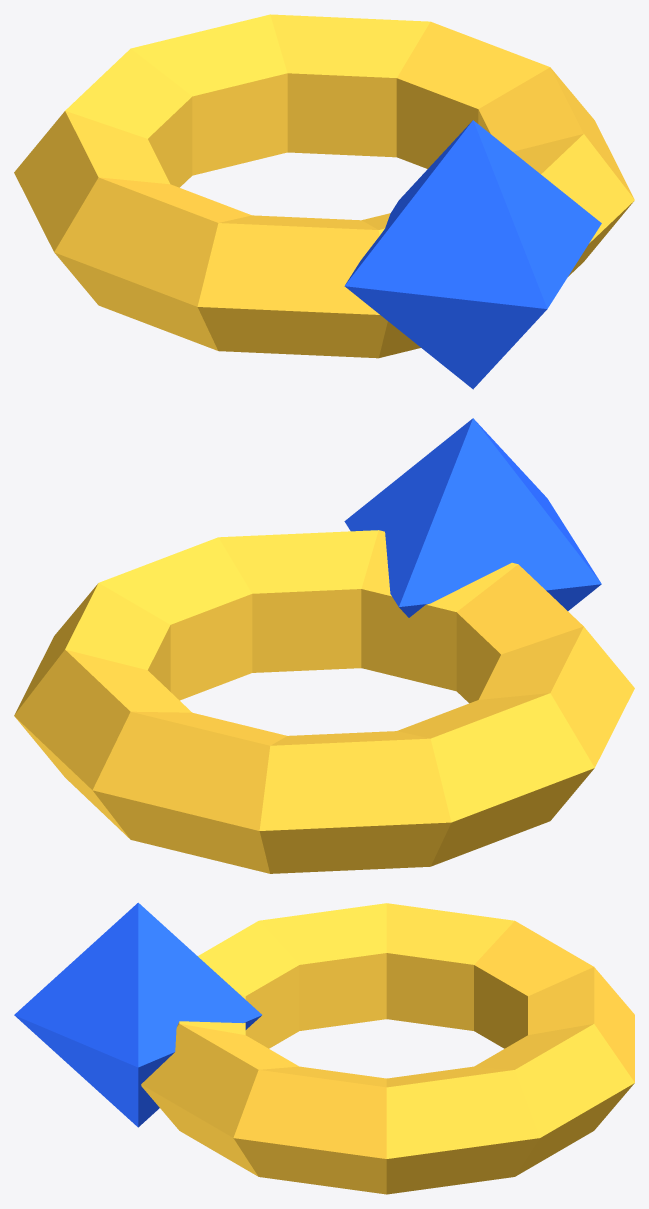
File: stolen_ring.glb
The picture shows the model from 3 angles, top to bottom: view 1: azimuth 30°, elevation 25°; view 2: azimuth 150°, elevation 25°; view 3: azimuth 270°, elevation 25°; orthographic projection. The views are drawn at different scales.
Visible parts, largest first — view 1: ring_gold, ring_sapphire; view 2: ring_gold, ring_sapphire; view 3: ring_gold, ring_sapphire.
Part boxes in pixels (box(x1,y1,x2,y2)): ring_gold: box(14, 14, 634, 358); ring_sapphire: box(344, 120, 601, 389); ring_gold: box(14, 530, 634, 873); ring_sapphire: box(344, 418, 601, 617); ring_gold: box(141, 903, 634, 1194); ring_sapphire: box(14, 902, 261, 1127).
Bounding box in the file's own units: 0.042 × 0.02 × 0.05.
